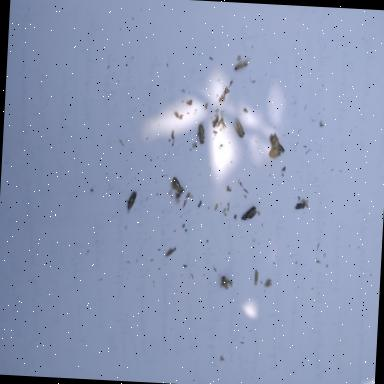pbw: (270, 133, 286, 153), (232, 118, 246, 138), (196, 119, 207, 144), (234, 56, 252, 71), (240, 206, 256, 222), (170, 176, 184, 194), (127, 191, 137, 214), (220, 276, 232, 290), (166, 247, 174, 257), (254, 270, 258, 286)
